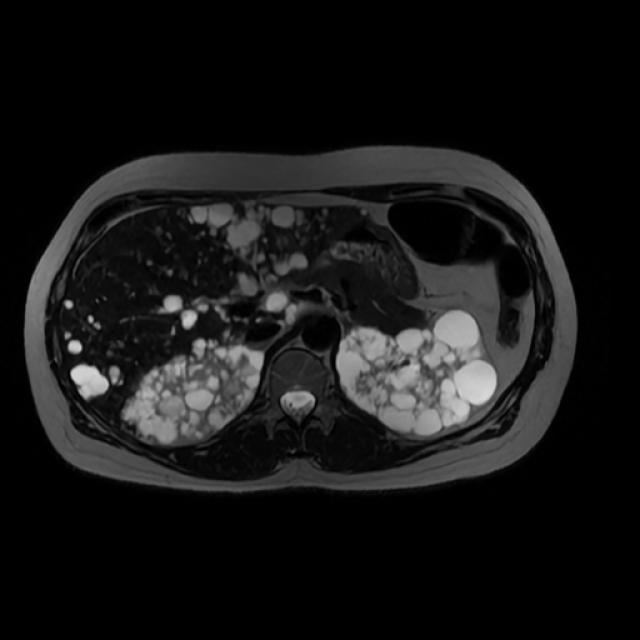sag: (118, 339, 265, 446)
sol: (334, 309, 501, 436)
